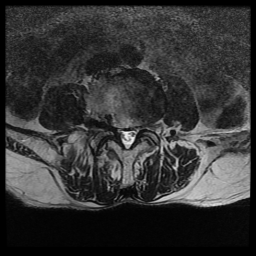CCS_normal: (123, 122, 130, 155)
LFS_stenosis: (138, 115, 146, 138)
LLS_normal: (130, 121, 138, 149)
RFS_severe_stenosis: (107, 115, 115, 138)
RLS_stenosis: (115, 121, 123, 145)
